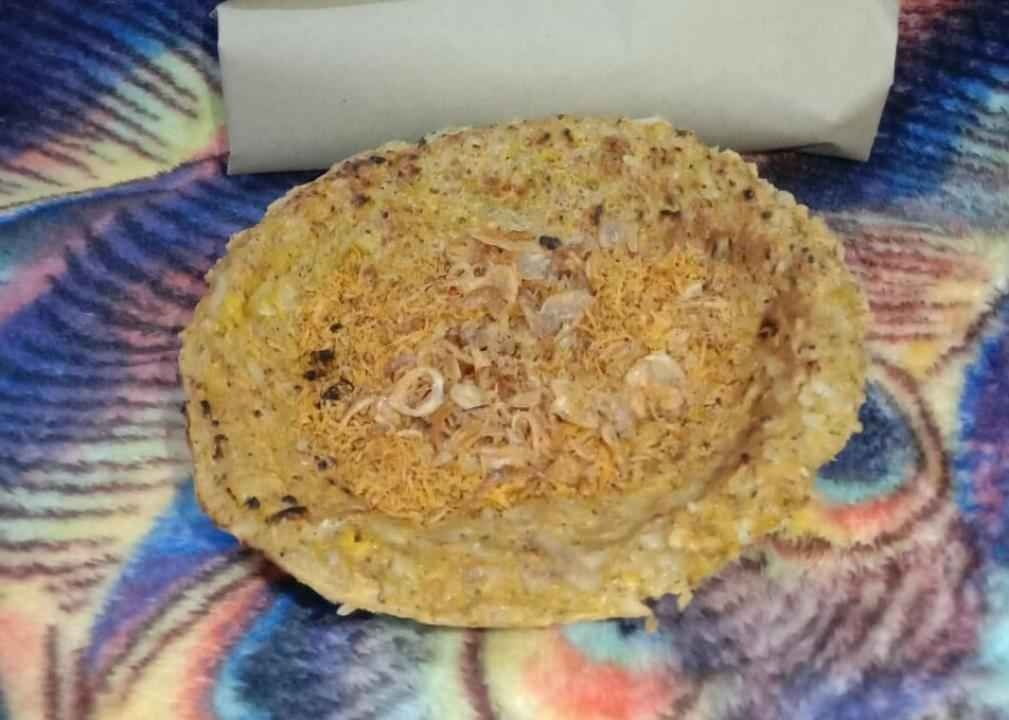kerak_telor: (176, 112, 872, 631)
